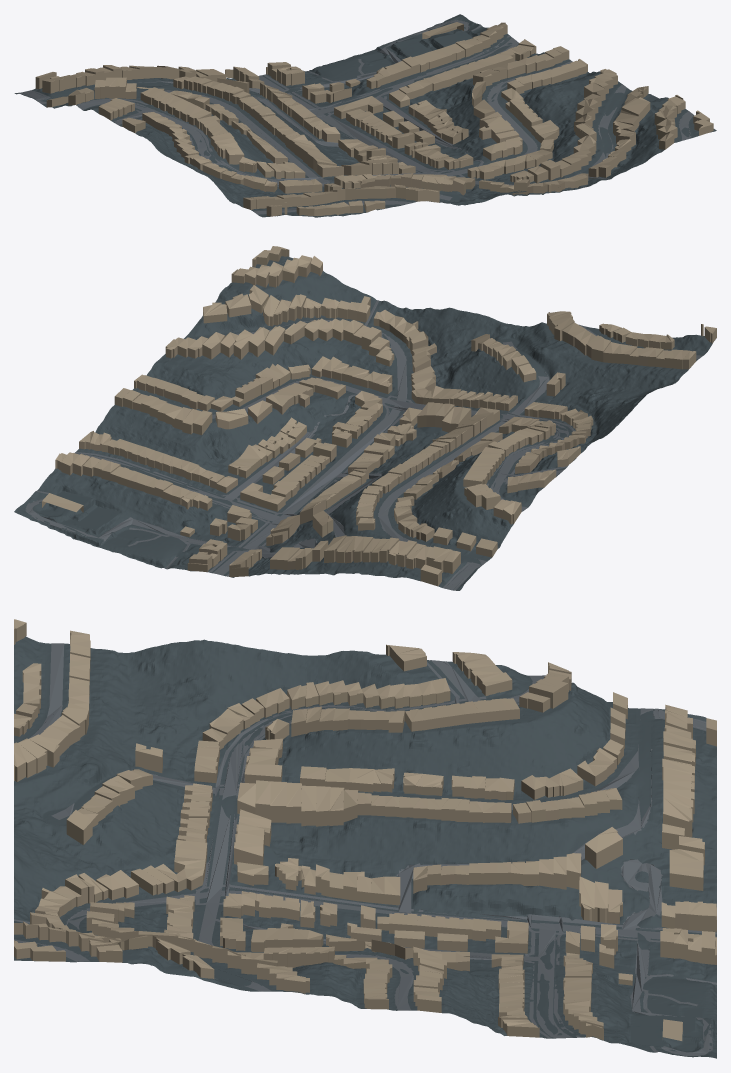
The model's file is epsg26910-1428-10876.lod0.glb.
3 views of the same model, one above another, from view 1: azimuth 30°, elevation 25°; view 2: azimuth 150°, elevation 25°; view 3: azimuth 270°, elevation 25° (orthographic). The views are drawn at different scales.
Visible parts, largest first — view 1: epsg26910-1428-10876-lod0; view 2: epsg26910-1428-10876-lod0; view 3: epsg26910-1428-10876-lod0.
Boxes of the visible parts, box(x1,y1,x2,y2) form: epsg26910-1428-10876-lod0: box(14, 14, 716, 217); epsg26910-1428-10876-lod0: box(14, 246, 716, 590); epsg26910-1428-10876-lod0: box(14, 619, 716, 1058).
Size of the model in its own units: 384 by 103 by 384.
